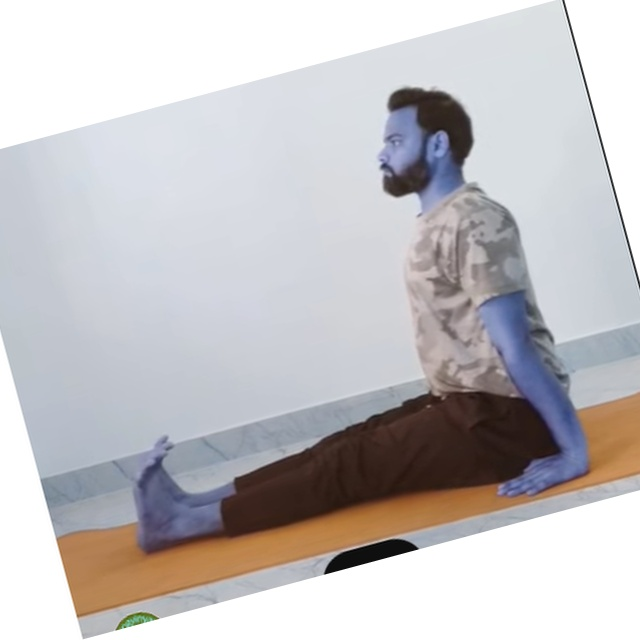Staff_Pose: (131, 87, 594, 552)
